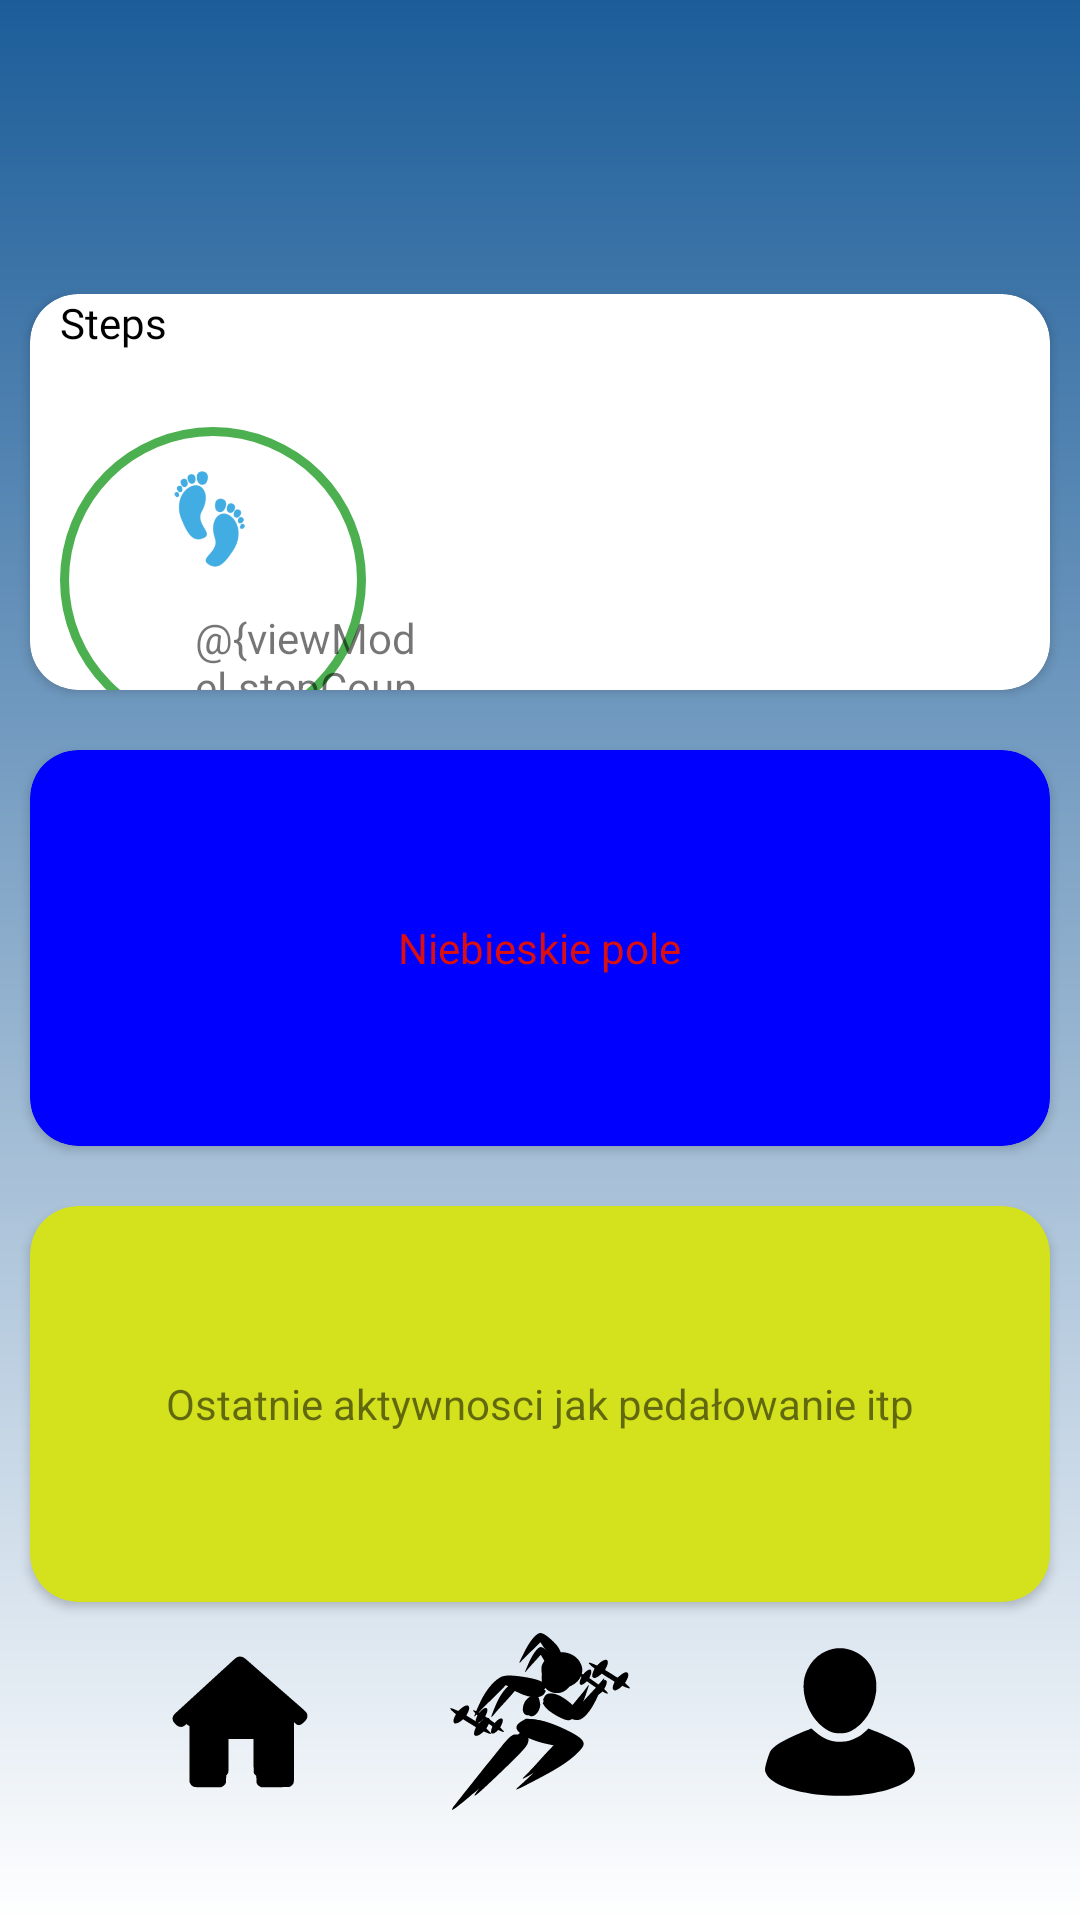

Icons on this 1080*1920 Android screen, each with its box as (x1, y1, x2, y2):
foot: (174, 471, 245, 567)
main: (172, 1656, 308, 1788)
person: (765, 1648, 915, 1796)
workout: (450, 1633, 630, 1810)
